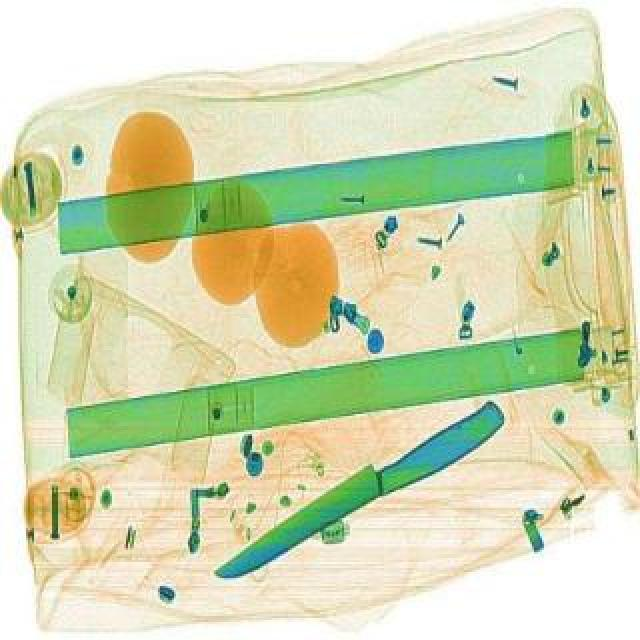knife: (200, 392, 512, 590)
